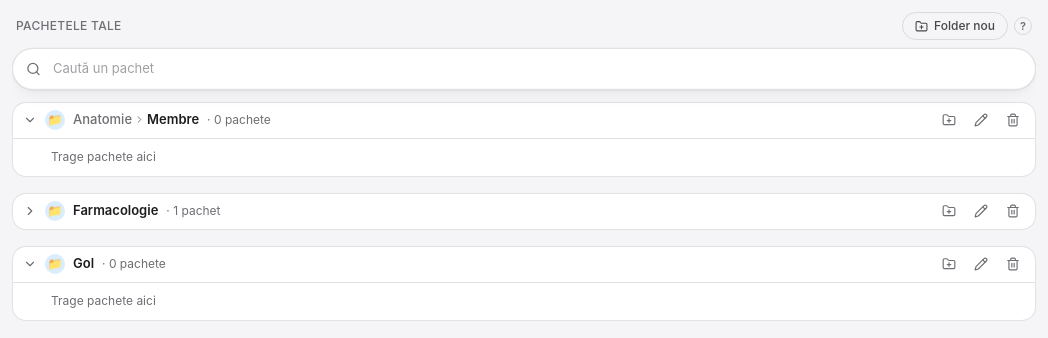
foldere proprii › redenumește inline cu Enter și renunță cu Esc
Click the button named "Redenumește folderul Farmacologie": (981,211) [965, 195, 997, 227]
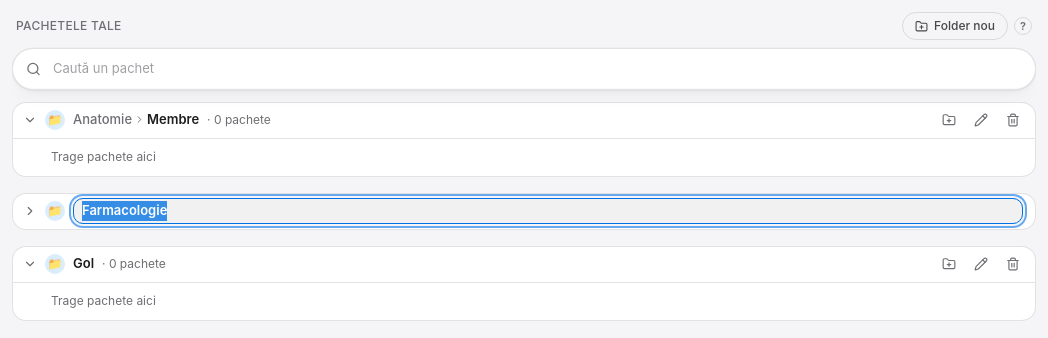
Replace the text in the field named "Numele folderului" with "Farma nouă": (548,211) [73, 198, 1023, 224]
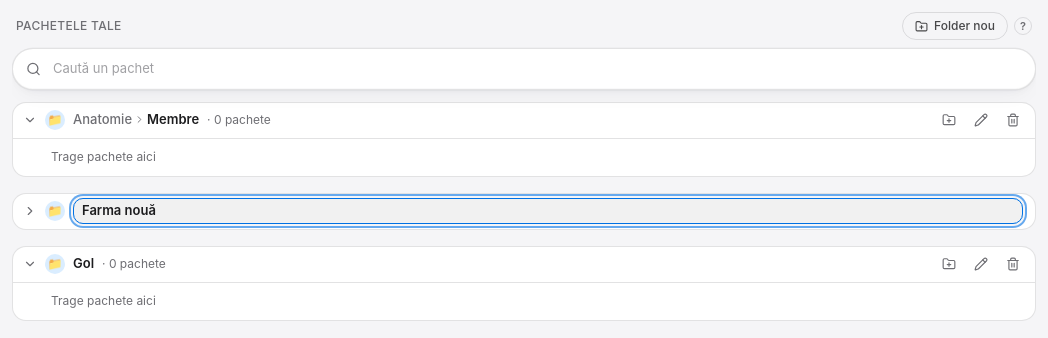
Press Escape in the field named "Numele folderului", box [73, 198, 1023, 224]
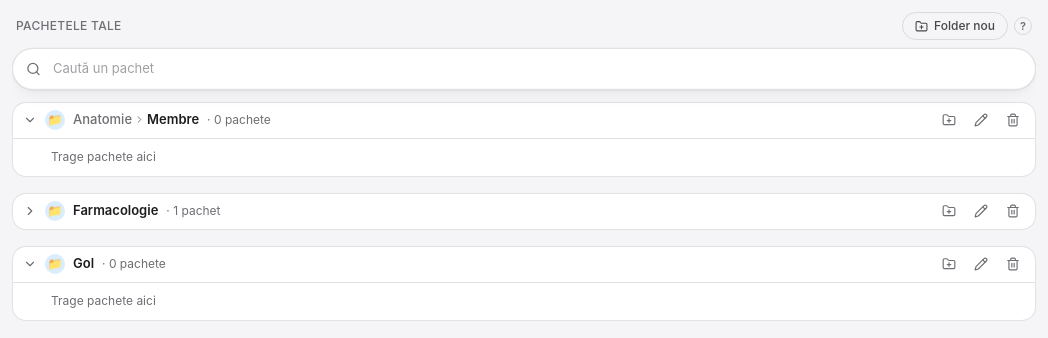
Result: the text "Farmacologie" is shown at [73, 201, 158, 221]
Click the button named "Redenumește folderul Farmacologie": (981,211) [965, 195, 997, 227]
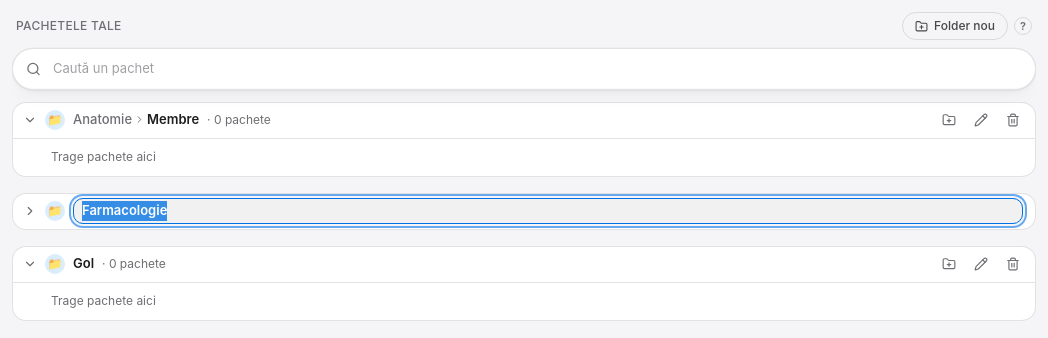
Replace the text in the field named "Numele folderului" with "  Farma nouă ": (548,211) [73, 198, 1023, 224]
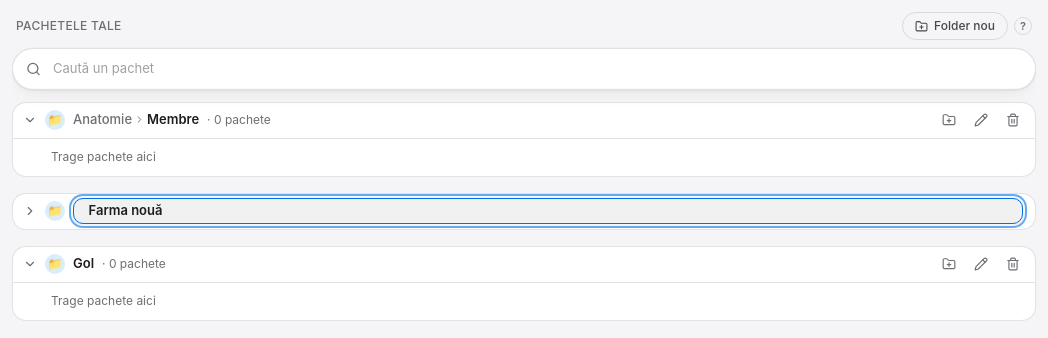
Press Enter in the field named "Numele folderului", box [73, 198, 1023, 224]
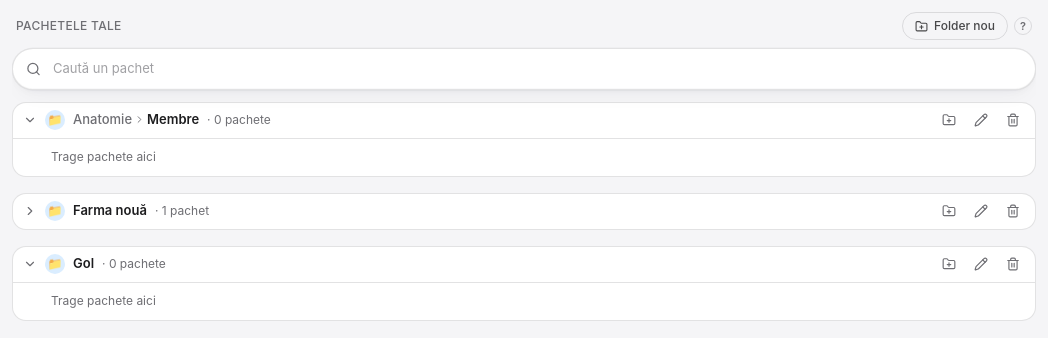
Result: the text "Farma nouă" is shown at [73, 201, 147, 221]
